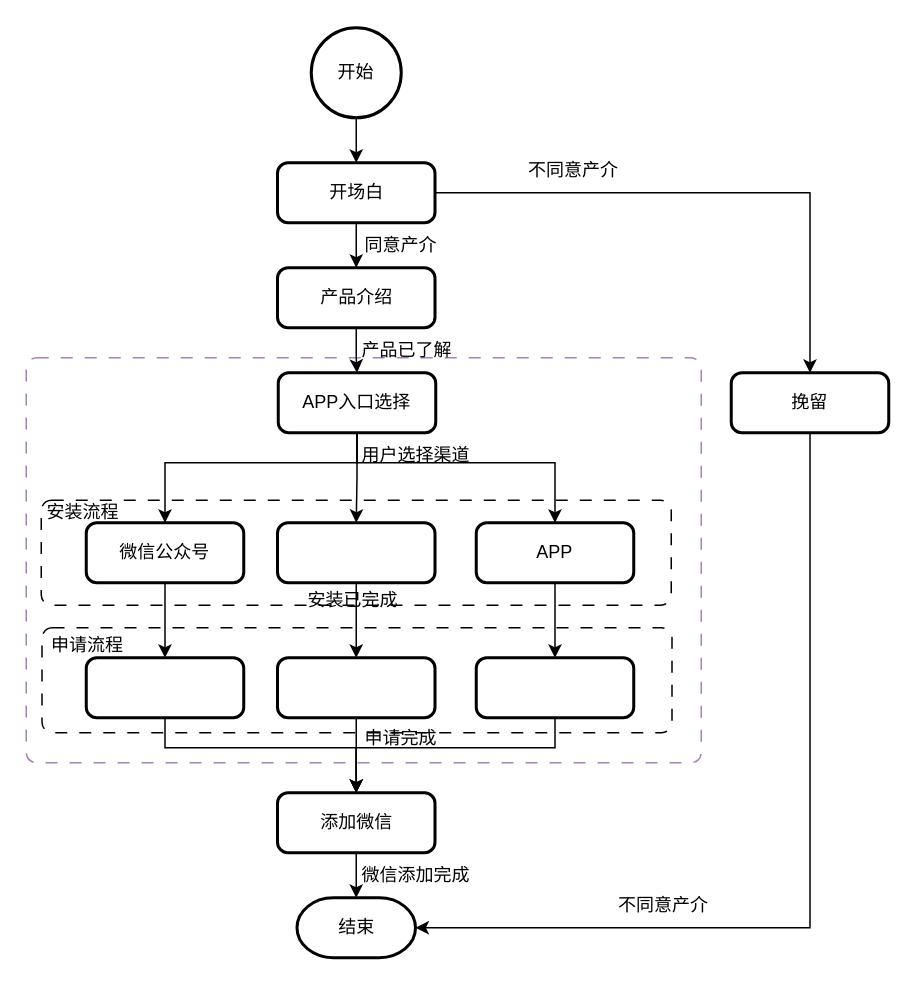
Image size: 917x984. Some labels were removed from this diagram. The centre of each missing label's shape, as x and y in pixels:
"APP申请" goes at point (554, 687).
"公众号申请" goes at point (164, 687).
"小程序" goes at point (355, 552).
"小程序申请" goes at point (355, 687).
